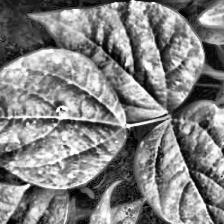ALS: (30, 5, 211, 116), (0, 52, 123, 181), (139, 106, 224, 224), (64, 183, 126, 224)
